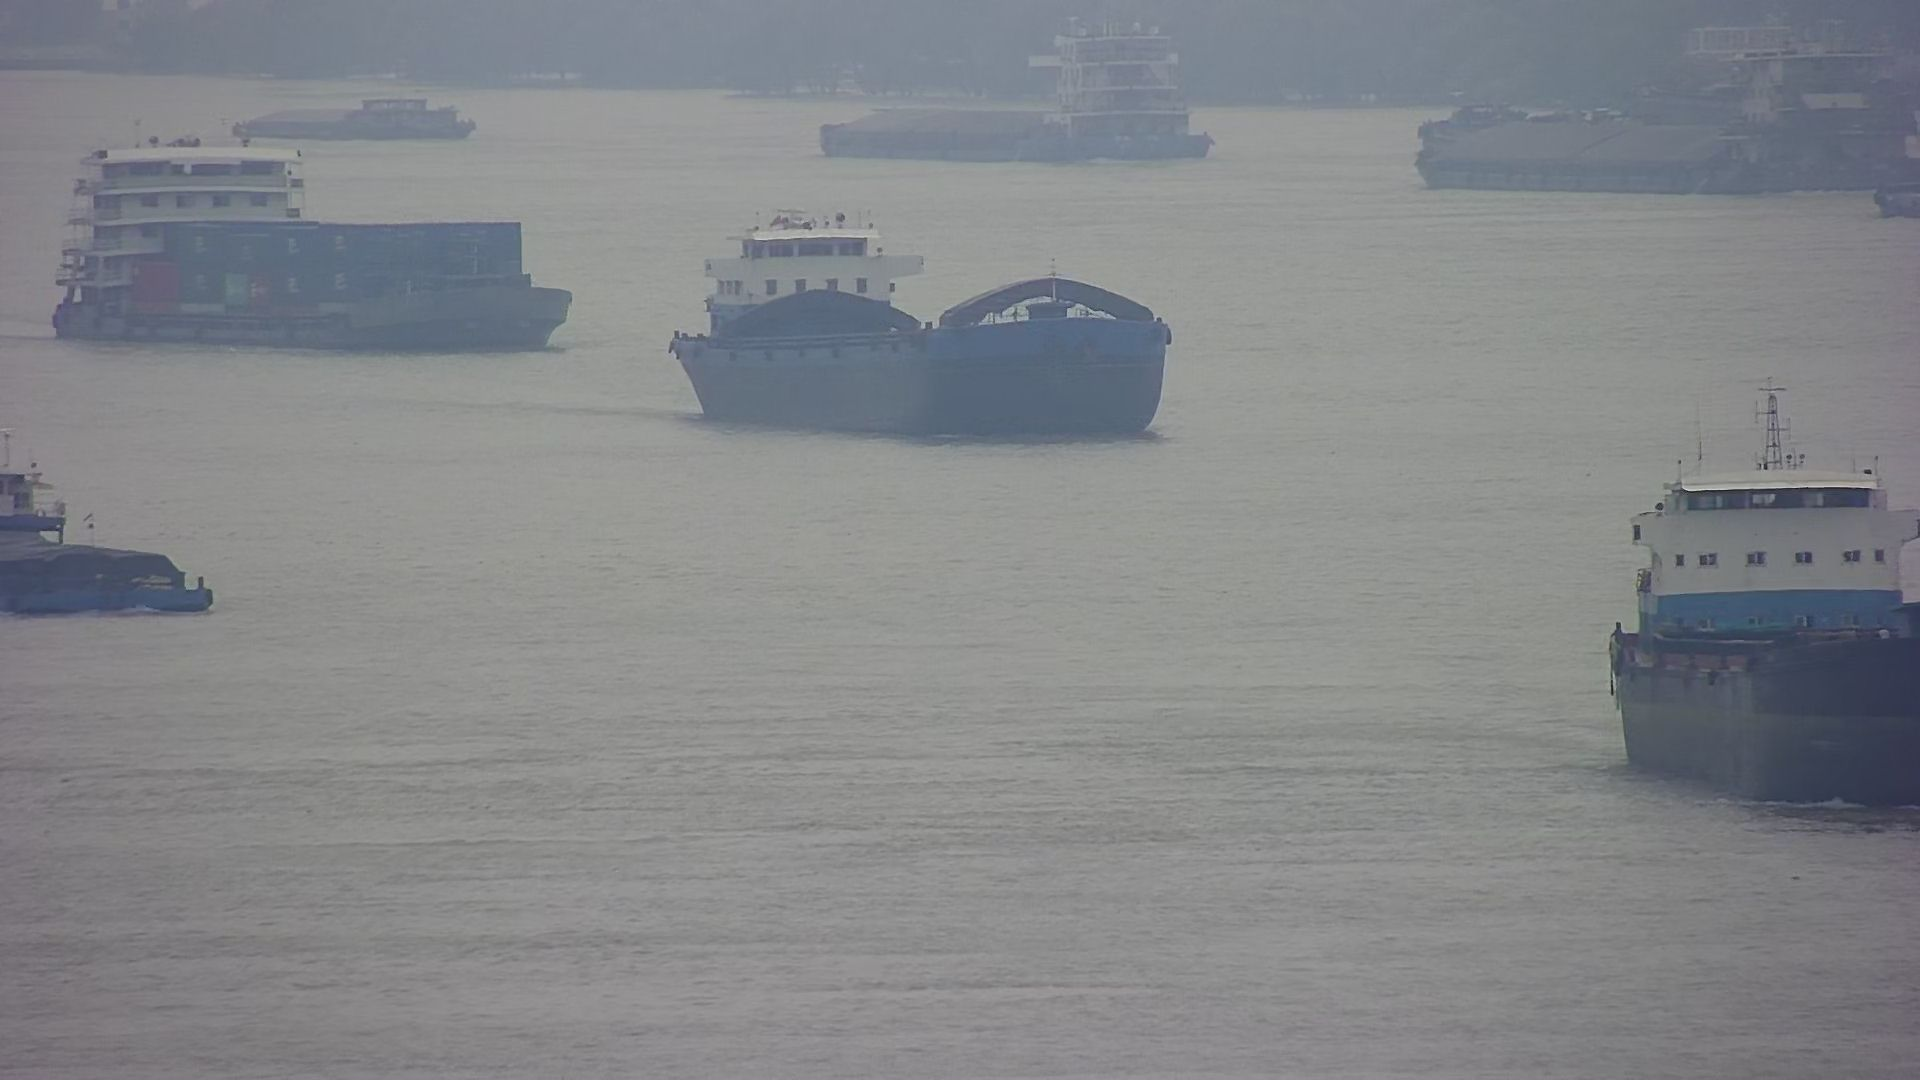ship: (665, 215, 1178, 440), (51, 142, 574, 349), (1611, 473, 1920, 807), (1416, 53, 1912, 194), (1416, 24, 1916, 162), (819, 22, 1213, 164), (1, 454, 216, 612), (233, 102, 476, 140)
